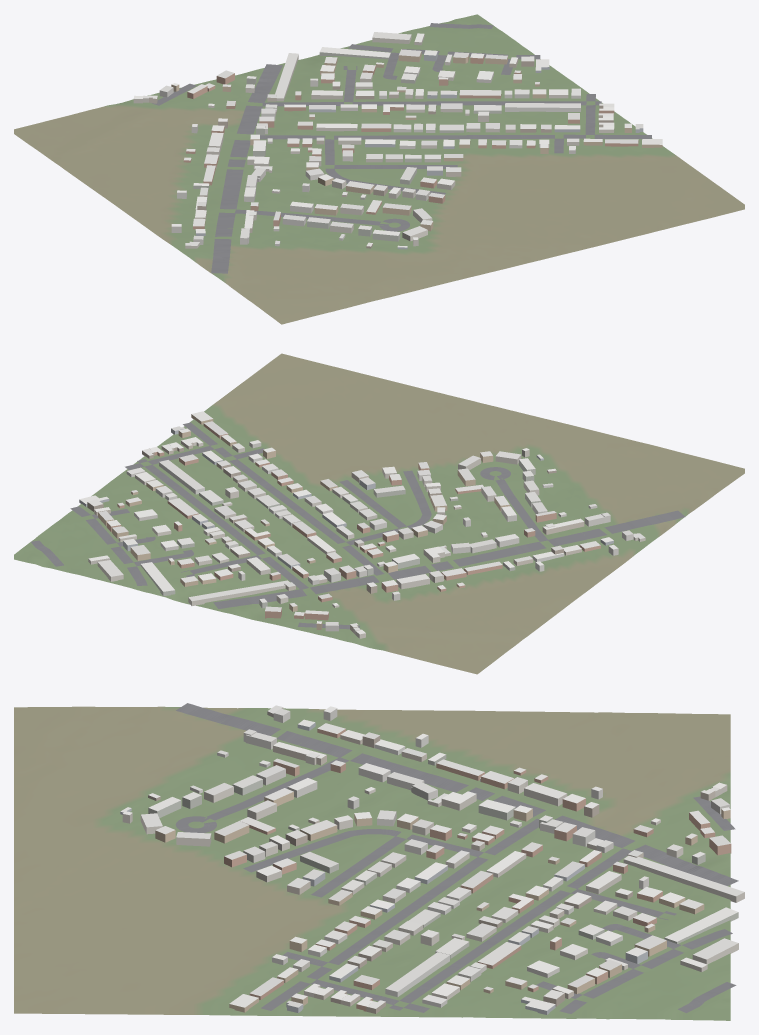
The picture shows the model from 3 angles, top to bottom: view 1: azimuth 30°, elevation 25°; view 2: azimuth 150°, elevation 25°; view 3: azimuth 270°, elevation 25°; orthographic projection. The views are drawn at different scales.
Parts seen in each view (by area): view 1: prim0, prim1, prim2; view 2: prim0, prim1, prim2; view 3: prim0, prim1, prim2.
Boxes of the visible parts, box(x1,y1,x2,y2) form: prim0: box(14, 14, 744, 324); prim1: box(133, 32, 662, 249); prim2: box(152, 23, 651, 273); prim0: box(14, 353, 744, 674); prim1: box(79, 411, 645, 638); prim2: box(31, 422, 685, 629); prim0: box(14, 706, 730, 1020); prim1: box(120, 705, 744, 1014); prim2: box(175, 703, 738, 1013).
Size of the model in its own units: 523 by 18.35 by 522.
